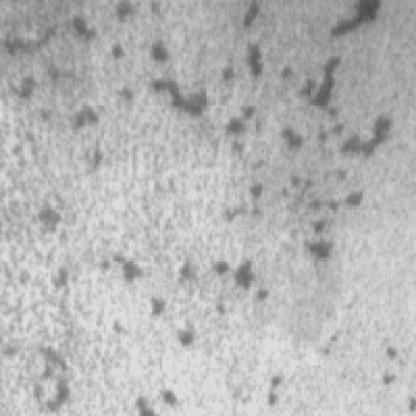pitted_surface: (15, 0, 395, 378)
